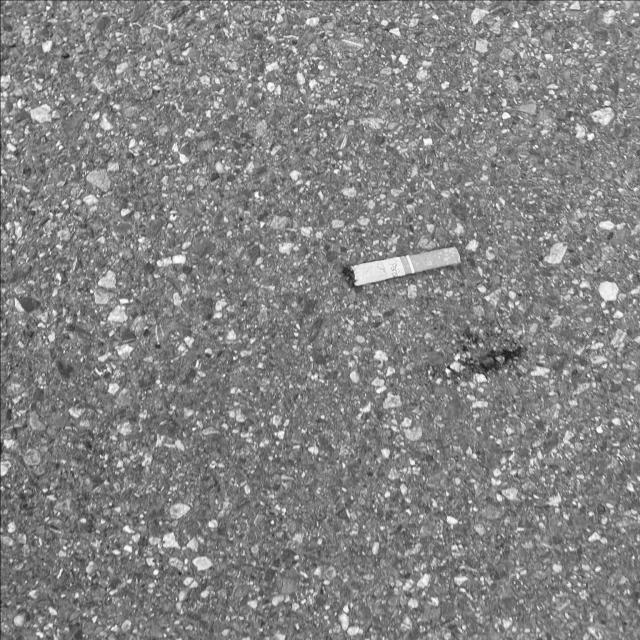other waste: (341, 245, 461, 288)
